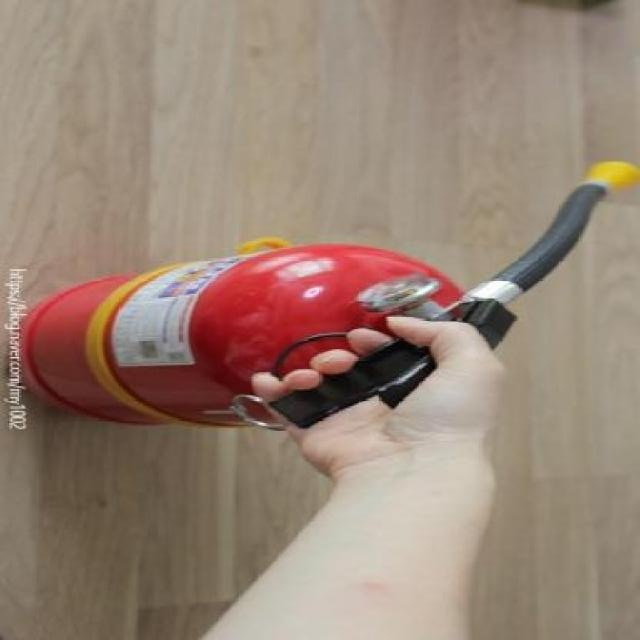fire extinguisher: (14, 159, 640, 430)
